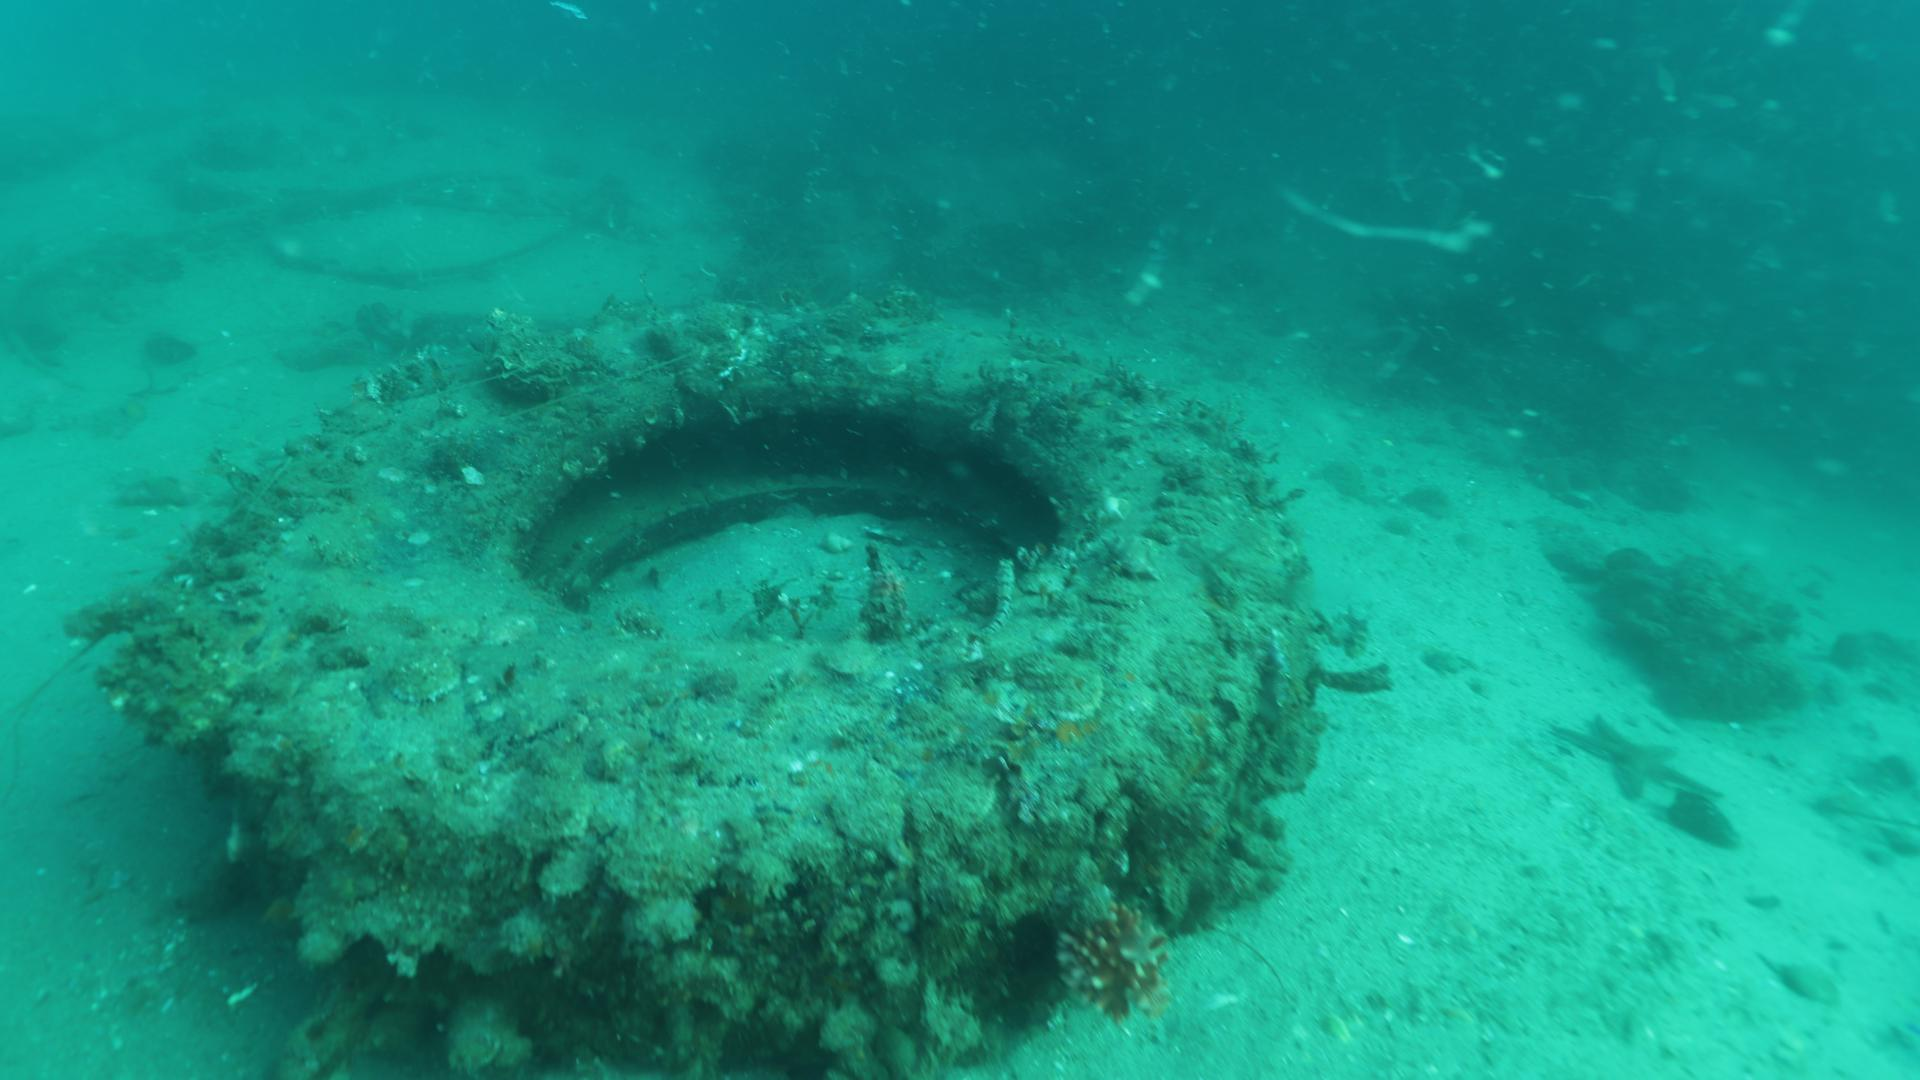tire: (233, 290, 1287, 1080)
